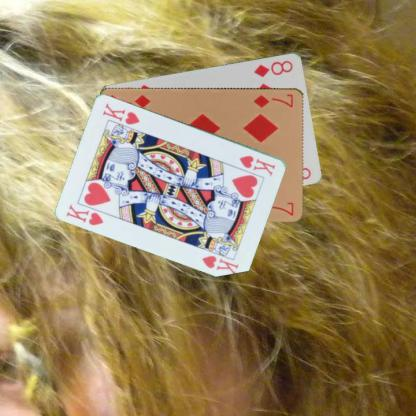7d: (251, 91, 294, 109)
8d: (251, 57, 295, 79)
Kh: (237, 152, 277, 178), (64, 201, 105, 226)
